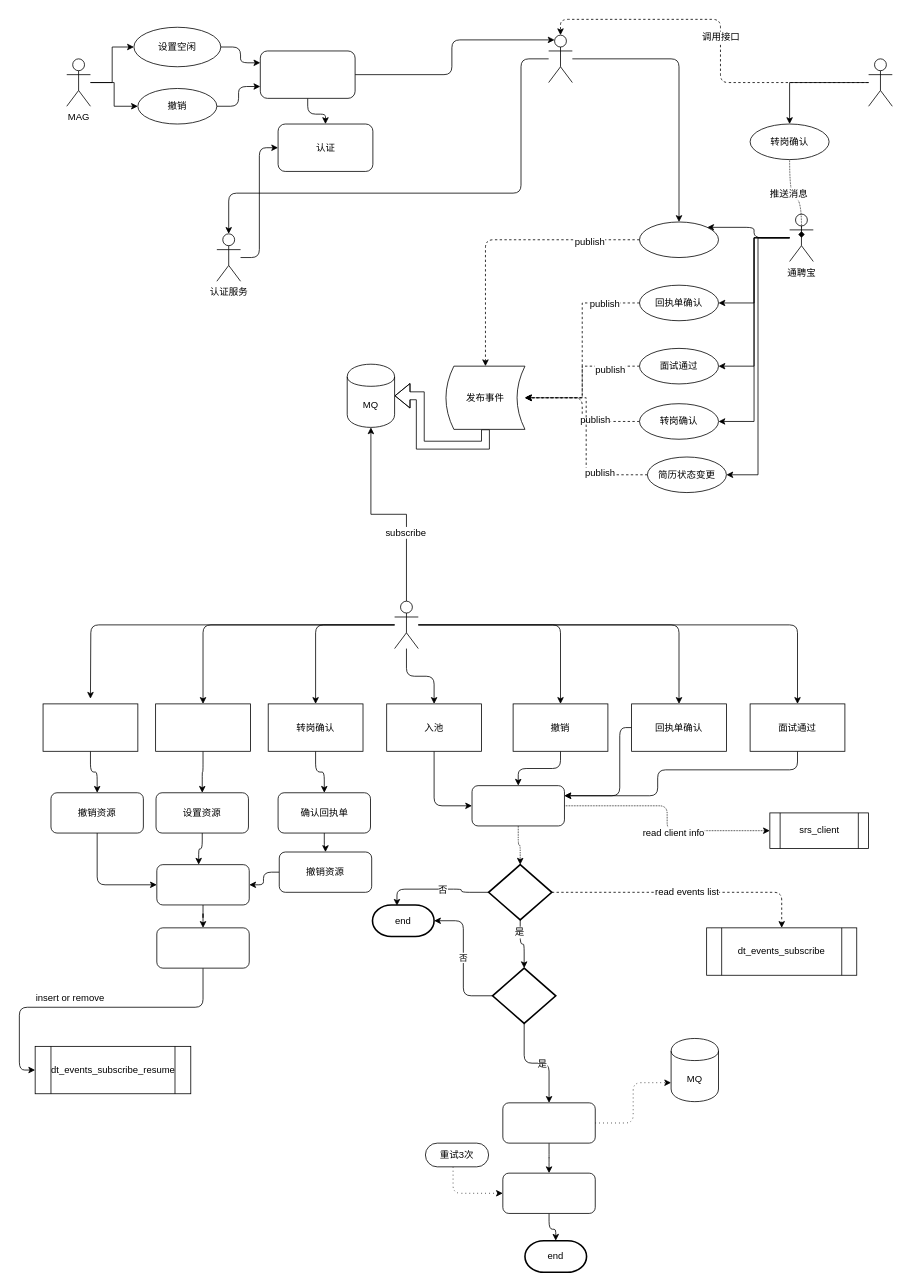
Some shapes in this 913 by 1287 pixel diagram are drawn without their labels. The centre of each missing label's shape, as x and y in pixels:
MAG入池事件: the point at 202,727
MAG接口: the point at 679,239
MAG撤销事件: the point at 90,727
人事系统: the point at 880,82
同步到订阅表: the point at 202,947
同步搜索服务: the point at 202,884
是否订阅事件: the point at 519,891
是否订阅简历: the point at 523,995
消费者: the point at 406,624
网关: the point at 560,58
获取客户端列表: the point at 517,805
触发事件: the point at 548,1122
调用客户端回调地址: the point at 548,1192
调用通聘宝接口: the point at 307,74
